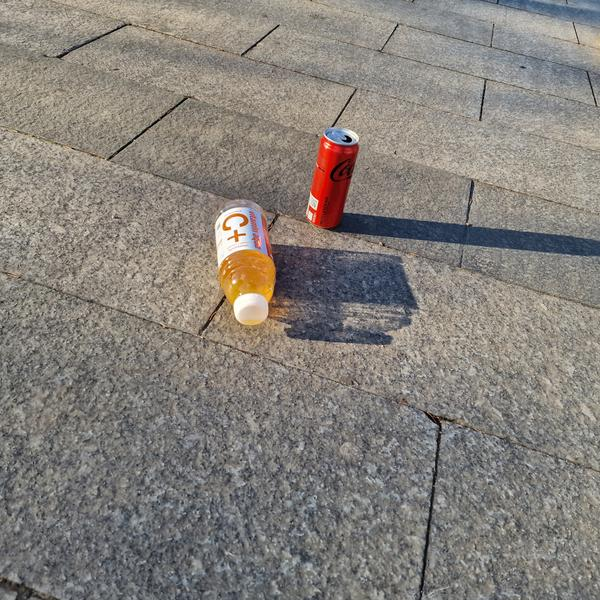can: (300, 122, 363, 233)
plastic_bottle: (207, 195, 284, 330)
